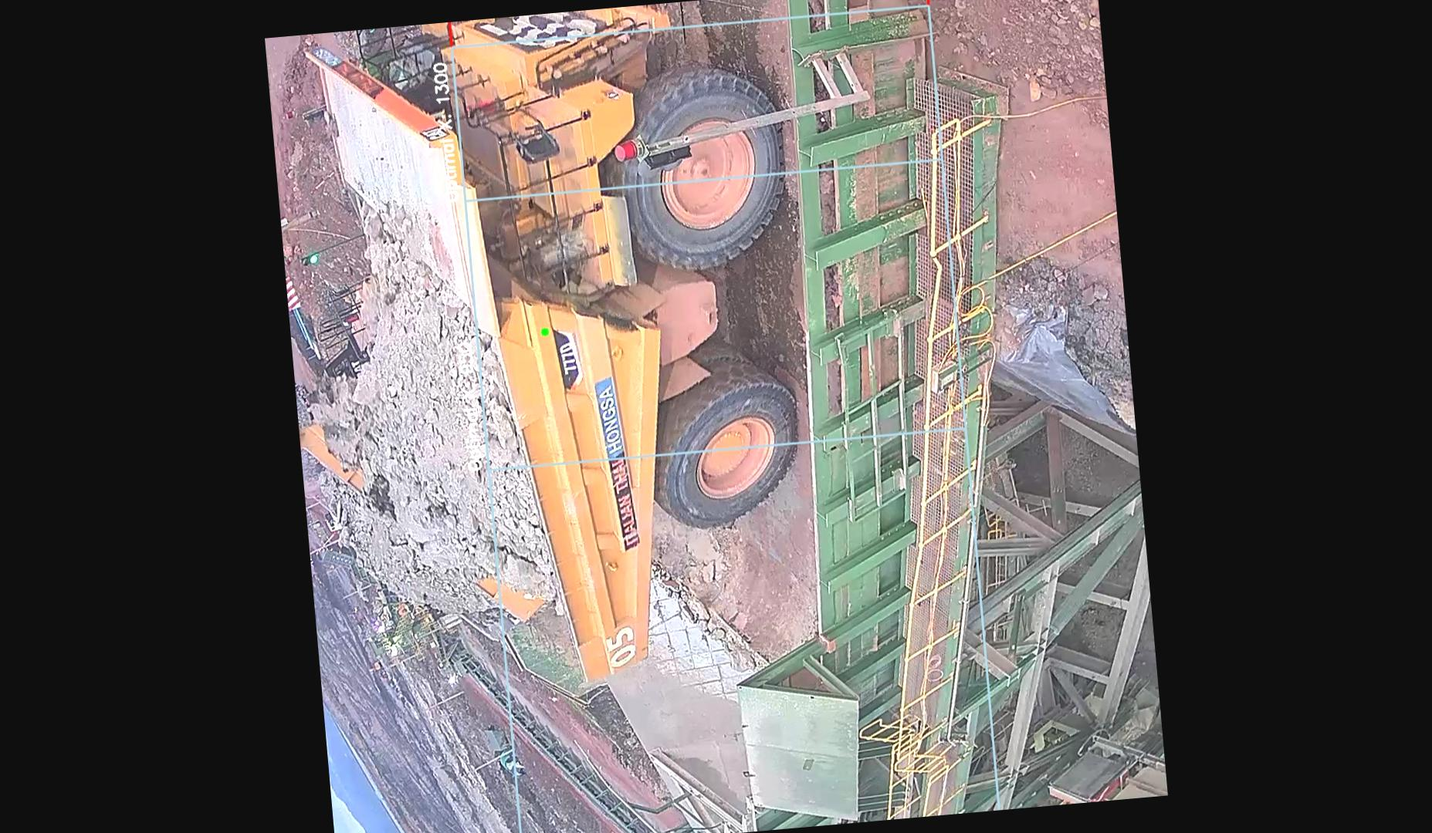company: (586, 369, 646, 563)
full_load: (339, 258, 535, 590)
mining_truck: (299, 0, 823, 723)
tail_number: (589, 610, 647, 676)
truck_size: (550, 325, 589, 396)
